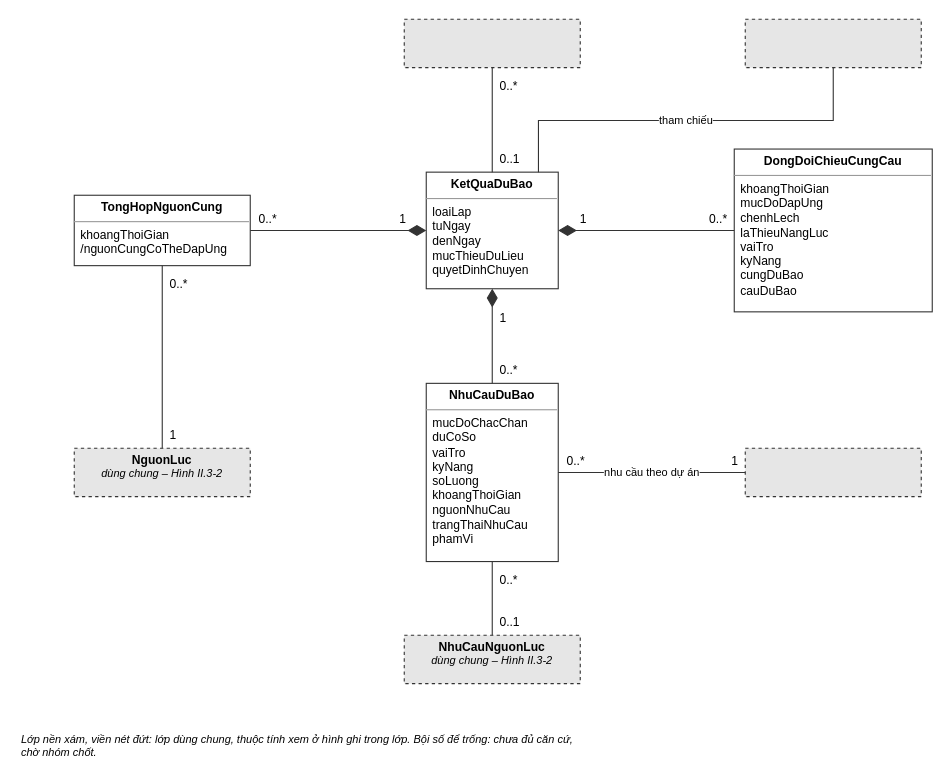
Some shapes in this 952 by 779 pixel diagram are drawn without their labels. The shapes that lost their labels are listed below. From the top down, each one's centre as x and y in pixels, then its label:
At point (491, 43): "PhanHoiNhuCau dùng chung – Hình II.3-2".
At point (832, 43): "HoSoTrinhDuyet dùng chung – Hình II.3-4".
At point (832, 472): "DuAn dùng chung – Hình II.3-2".
